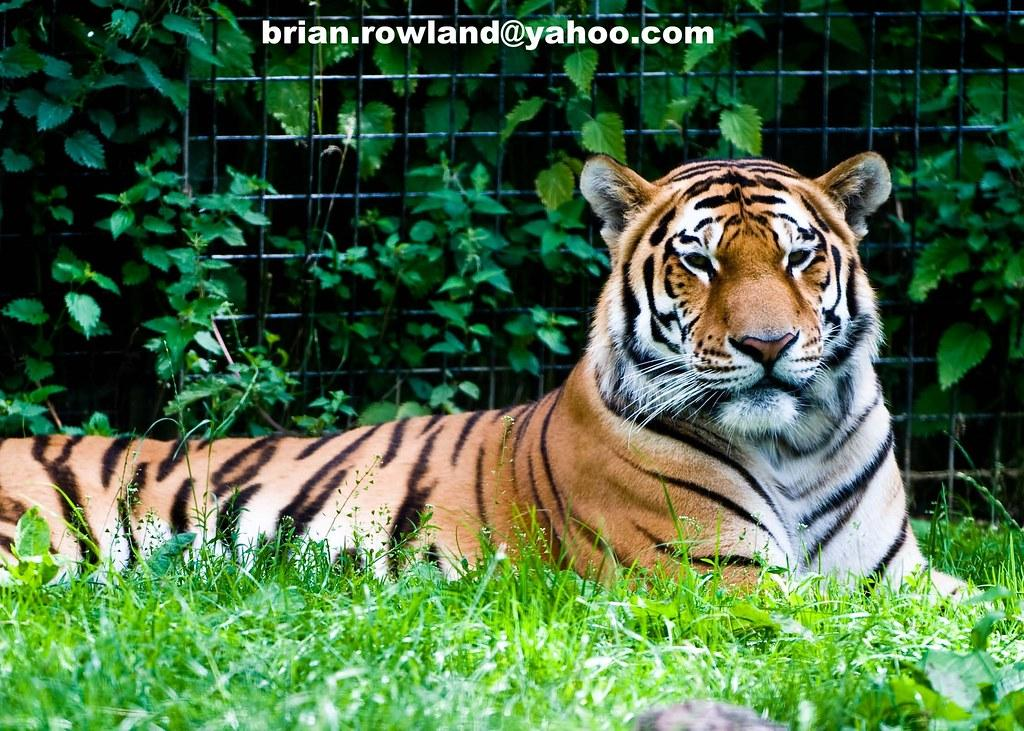tiger: (1, 148, 999, 612)
